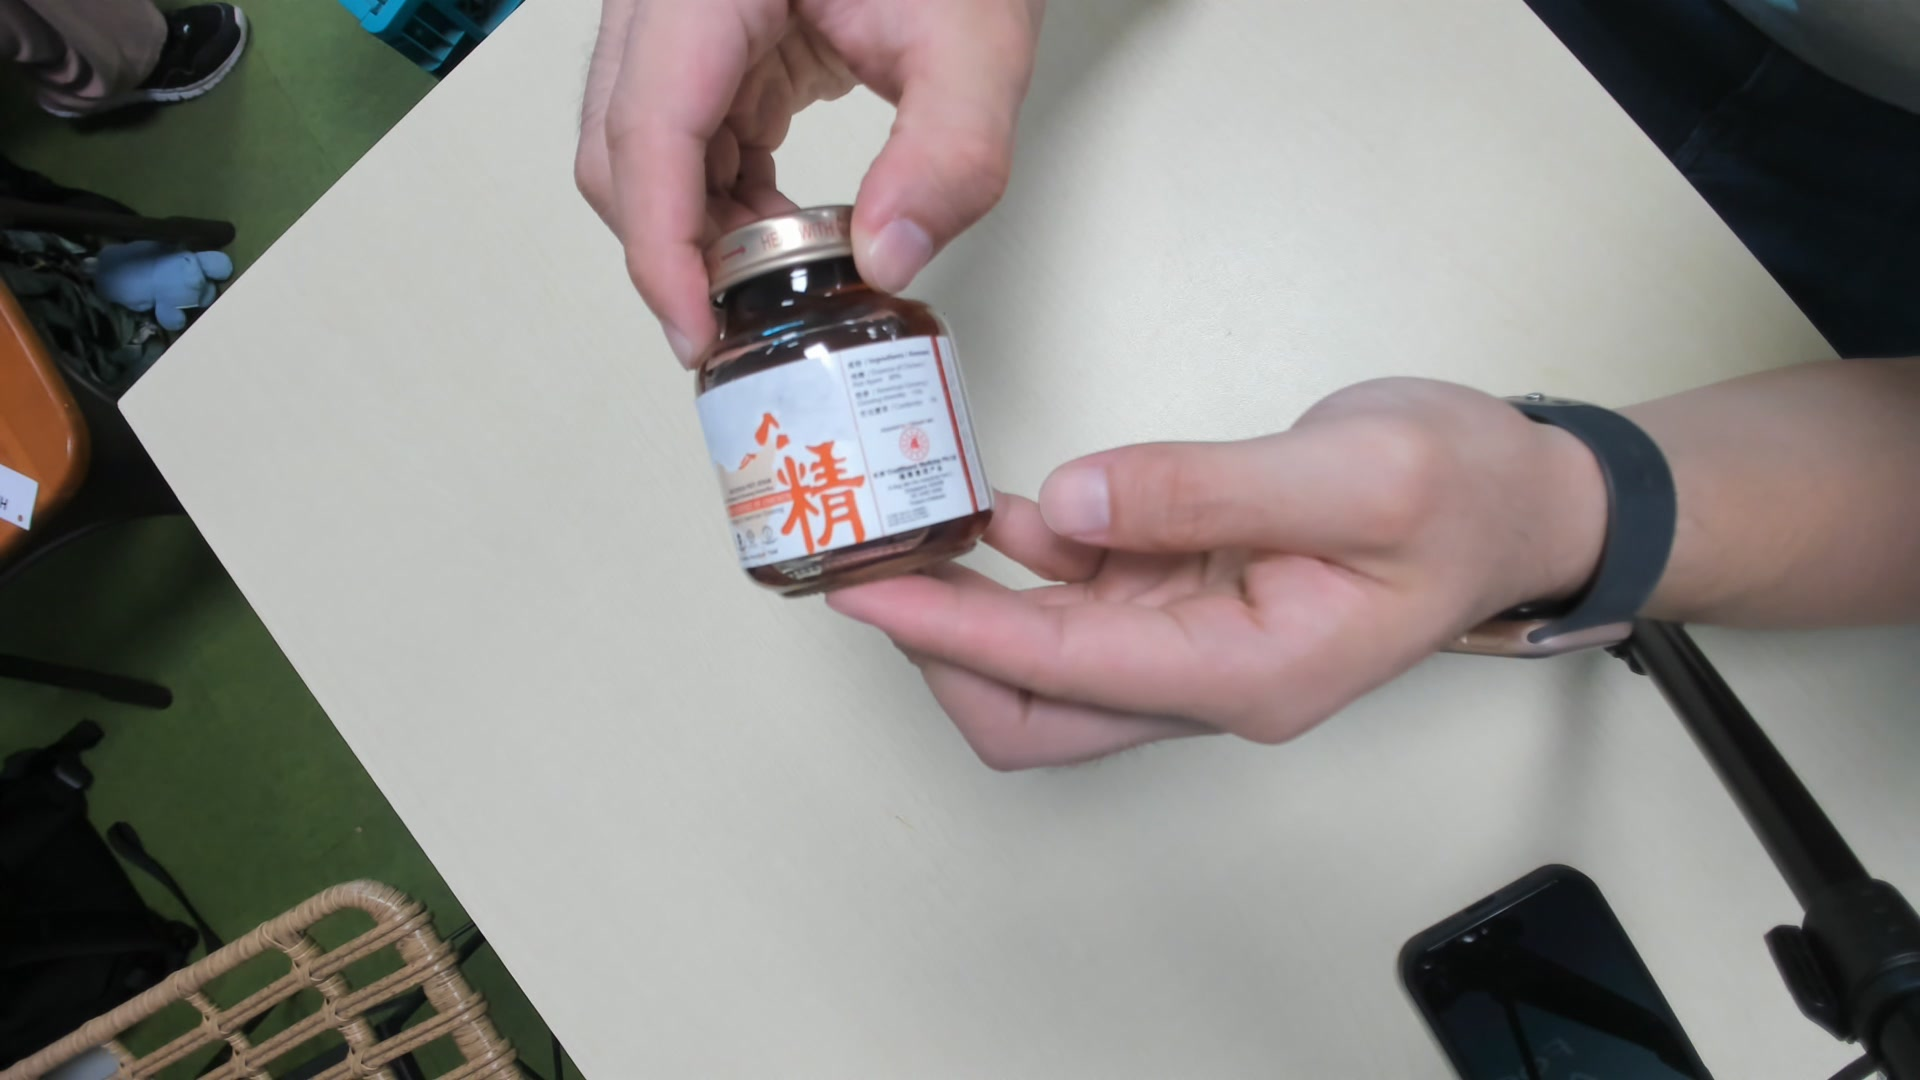OtherSauceDressing_0-99g_NonHalal_NonHealthy: (698, 200, 992, 601)
